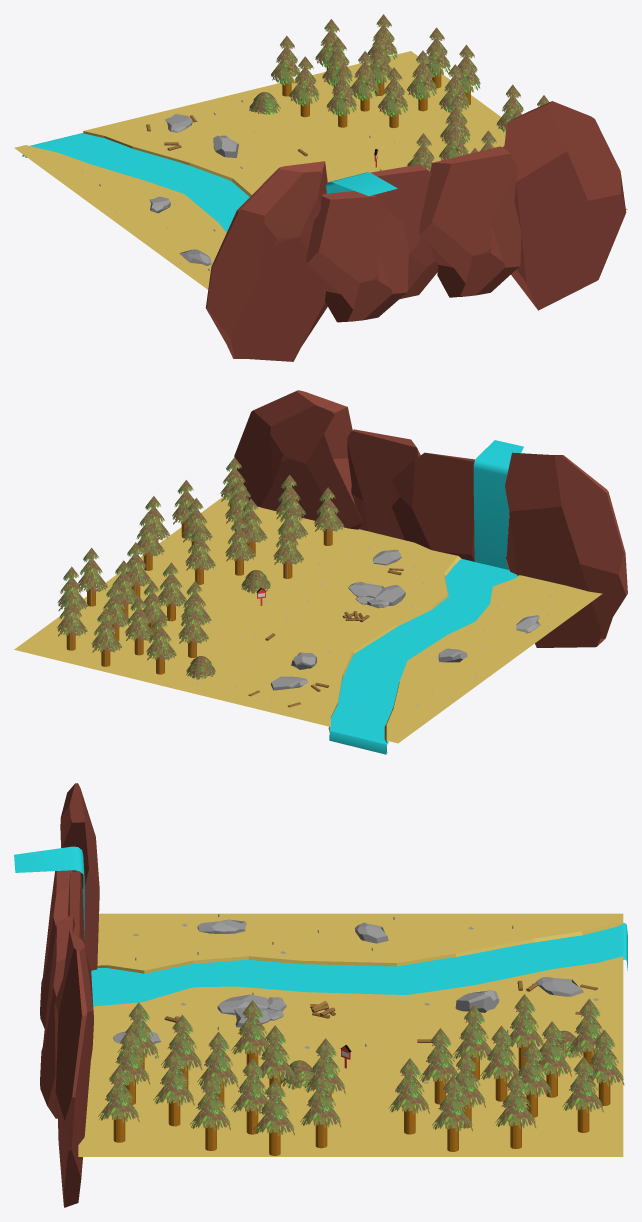
The model's file is RiverSide.fbx.
3 renders of one model, top to bottom at view 1: azimuth 30°, elevation 25°; view 2: azimuth 150°, elevation 25°; view 3: azimuth 270°, elevation 25°, orthographic. The views are drawn at different scales.
Visible parts, largest first — view 1: Red_Rock, city.008, Tree_SE03, river_SE03, Rock_SE03, Forest_SE03; view 2: city.008, Red_Rock, Tree_SE03, river_SE03, Rock_SE03, Forest_SE03; view 3: city.008, Tree_SE03, river_SE03, Red_Rock, Rock_SE03, Forest_SE03.
Part boxes in pixels (bbox=[...]): Red_Rock: bbox=[205, 101, 626, 361]; city.008: bbox=[14, 51, 627, 289]; Tree_SE03: bbox=[271, 14, 549, 171]; river_SE03: bbox=[22, 133, 397, 232]; Rock_SE03: bbox=[149, 114, 238, 265]; Forest_SE03: bbox=[249, 92, 416, 166]; city.008: bbox=[14, 496, 602, 752]; Red_Rock: bbox=[234, 390, 627, 647]; Tree_SE03: bbox=[57, 457, 344, 674]; river_SE03: bbox=[329, 440, 523, 754]; Rock_SE03: bbox=[271, 549, 540, 690]; Forest_SE03: bbox=[186, 570, 270, 679]; city.008: bbox=[78, 913, 623, 1156]; Tree_SE03: bbox=[98, 994, 624, 1155]; river_SE03: bbox=[14, 846, 627, 1006]; Red_Rock: bbox=[40, 783, 99, 1207]; Rock_SE03: bbox=[113, 919, 583, 1043]; Forest_SE03: bbox=[281, 1030, 583, 1089].
Size of the model in its own units: 4317 by 1923 by 4252.
7 materials, 6 textured.
